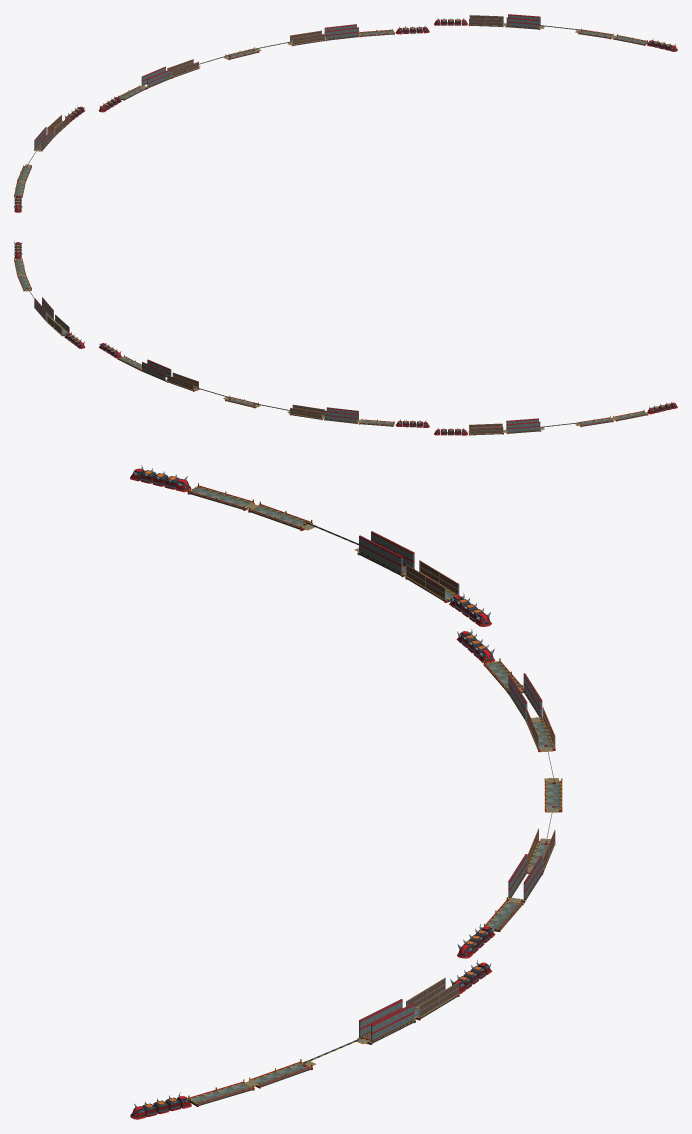
File: Mad_express_full.obj
3 views of the same model, one above another, from view 1: azimuth 30°, elevation 25°; view 2: azimuth 150°, elevation 25°; view 3: azimuth 270°, elevation 25° (orthographic). The views are drawn at different scales.
Parts seen in each view (by area): view 1: obj3, obj6, obj4, obj9, obj11, Object_2, obj14; view 2: obj11, obj6, obj9, obj4, obj3, obj14, Object_2; view 3: obj11, obj3, Object_2, obj14, obj6, obj4, obj9.
Part boxes in pixels (left/top/right/bottom): obj3: left=434, top=14, right=544, bottom=29; obj6: left=167, top=30, right=326, bottom=78; obj4: left=324, top=24, right=429, bottom=41; obj9: left=98, top=66, right=171, bottom=112; obj11: left=34, top=106, right=84, bottom=151; Object_2: left=539, top=25, right=677, bottom=51; obj14: left=14, top=147, right=38, bottom=212; obj11: left=434, top=418, right=544, bottom=435; obj6: left=166, top=372, right=324, bottom=420; obj9: left=324, top=407, right=429, bottom=427; obj4: left=99, top=342, right=171, bottom=381; obj3: left=34, top=297, right=85, bottom=348; obj14: left=540, top=401, right=677, bottom=427; Object_2: left=14, top=241, right=34, bottom=298; obj11: left=354, top=531, right=491, bottom=626; obj3: left=356, top=960, right=491, bottom=1044; Object_2: left=130, top=1035, right=368, bottom=1119; obj14: left=130, top=465, right=358, bottom=545; obj6: left=526, top=707, right=562, bottom=873; obj4: left=457, top=854, right=542, bottom=958; obj9: left=456, top=628, right=542, bottom=721.
Size of the model in its own units: 8802 by 126 by 2487.
